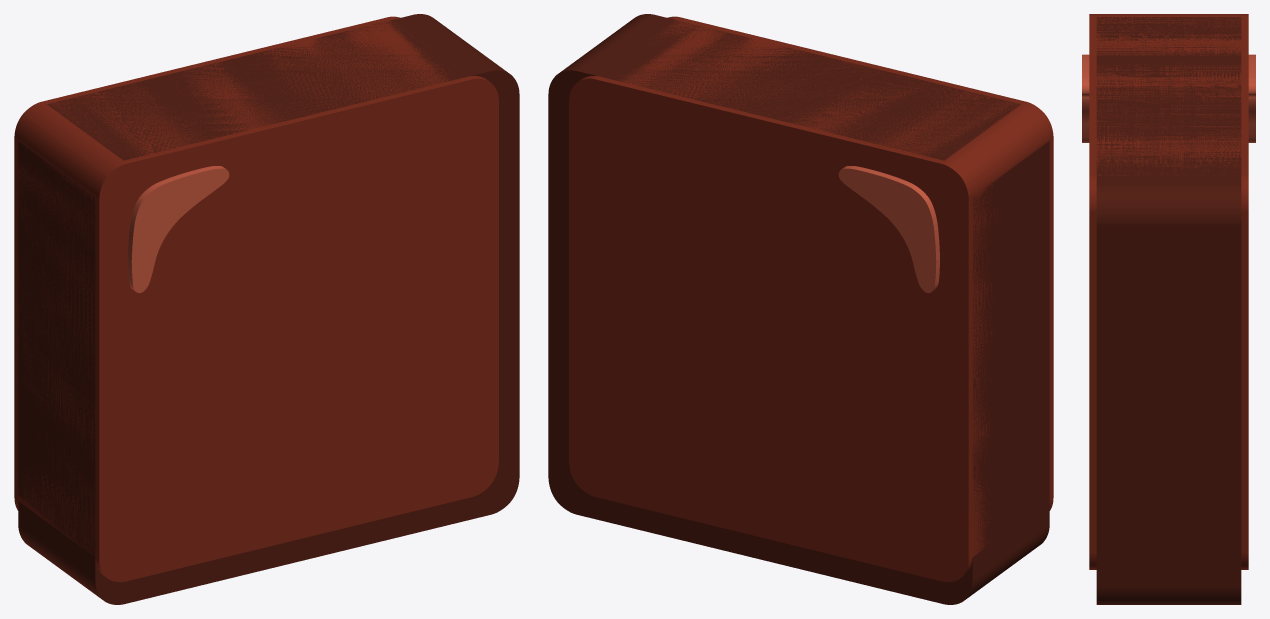
3 views of the same model, side by side, from view 1: azimuth 30°, elevation 25°; view 2: azimuth 150°, elevation 25°; view 3: azimuth 270°, elevation 25° (orthographic). The views are drawn at different scales.
Visible parts, largest first — view 1: U+1F7EB_layer01_obj00, U+1F7EB_layer00_obj00, U+1F7EB_layer02_obj00; view 2: U+1F7EB_layer01_obj00, U+1F7EB_layer00_obj00, U+1F7EB_layer02_obj00; view 3: U+1F7EB_layer00_obj00, U+1F7EB_layer01_obj00, U+1F7EB_layer02_obj00.
Part boxes in pixels (x1=…): U+1F7EB_layer01_obj00: x1=14, y1=16, x2=498, y2=582; U+1F7EB_layer00_obj00: x1=18, y1=14, x2=519, y2=604; U+1F7EB_layer02_obj00: x1=128, y1=166, x2=229, y2=293; U+1F7EB_layer01_obj00: x1=569, y1=16, x2=1053, y2=582; U+1F7EB_layer00_obj00: x1=548, y1=14, x2=1049, y2=604; U+1F7EB_layer02_obj00: x1=838, y1=166, x2=939, y2=293; U+1F7EB_layer00_obj00: x1=1096, y1=17, x2=1241, y2=604; U+1F7EB_layer01_obj00: x1=1089, y1=14, x2=1248, y2=569; U+1F7EB_layer02_obj00: x1=1082, y1=54, x2=1255, y2=142.
Size of the model in its own units: 0.3175 by 0.3174 by 0.12.
